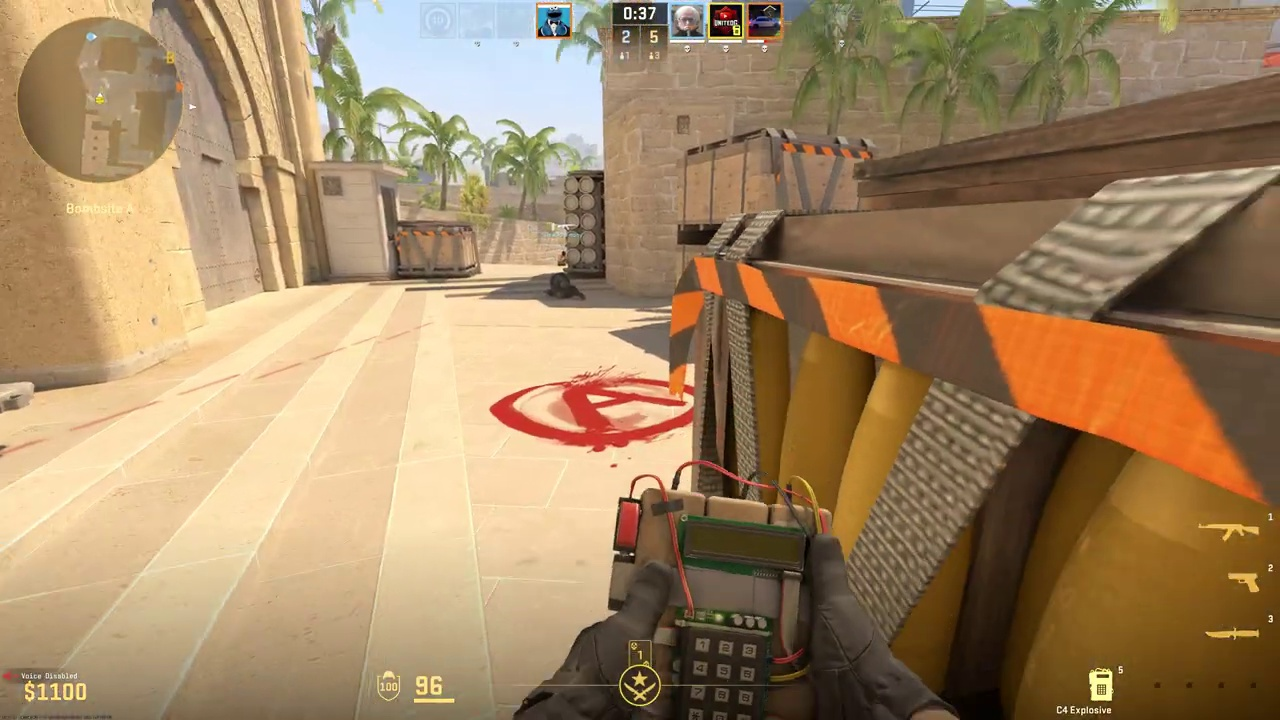Terrorist: (558, 250, 567, 266)
